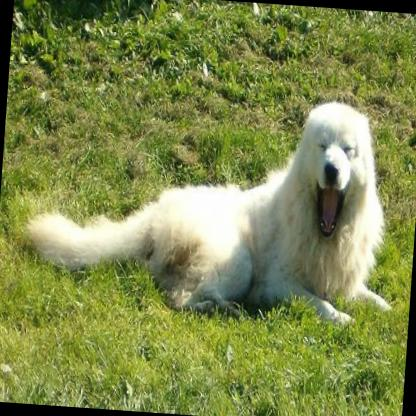Great_Pyrenees: (18, 80, 407, 328)
